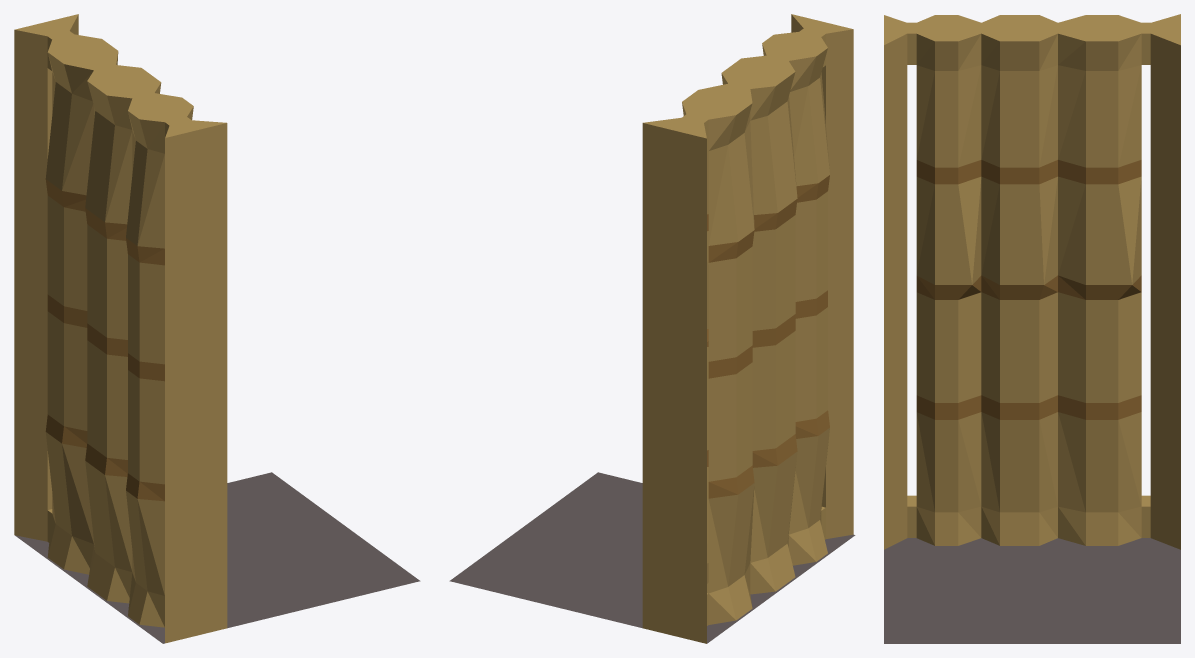
The picture shows the model from 3 angles, left to right: view 1: azimuth 30°, elevation 25°; view 2: azimuth 150°, elevation 25°; view 3: azimuth 270°, elevation 25°; orthographic projection.
Bounding box in the file's own units: 1 × 1.88 × 1.
